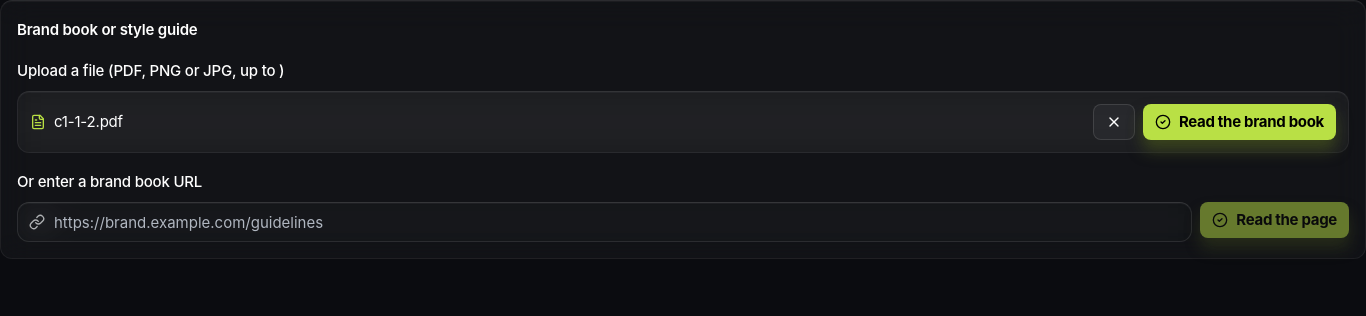
Test: the brand book card › says why a read stopped when the reader refuses the file
Click the button "Read the brand book".
click(1239, 122)  # box 1143,104 -> 1336,140
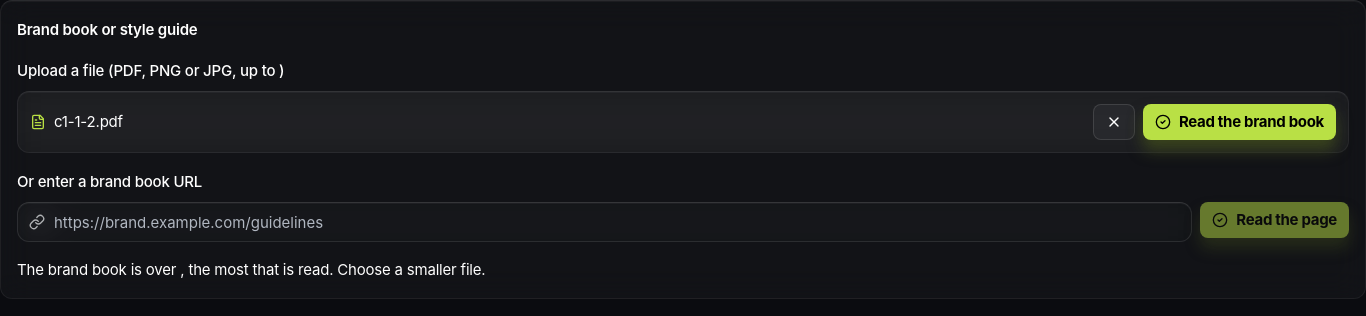
Click the button "Read the brand book".
click(1239, 122)  # box 1143,104 -> 1336,140
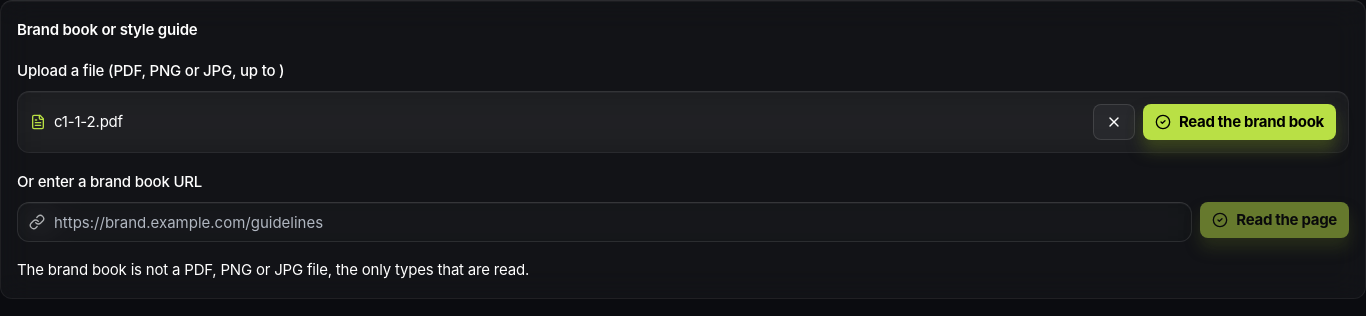
Result: the text "The brand book is not a PDF, PNG or JPG file, the only types that are read." is shown at 17,260 -> 529,279
